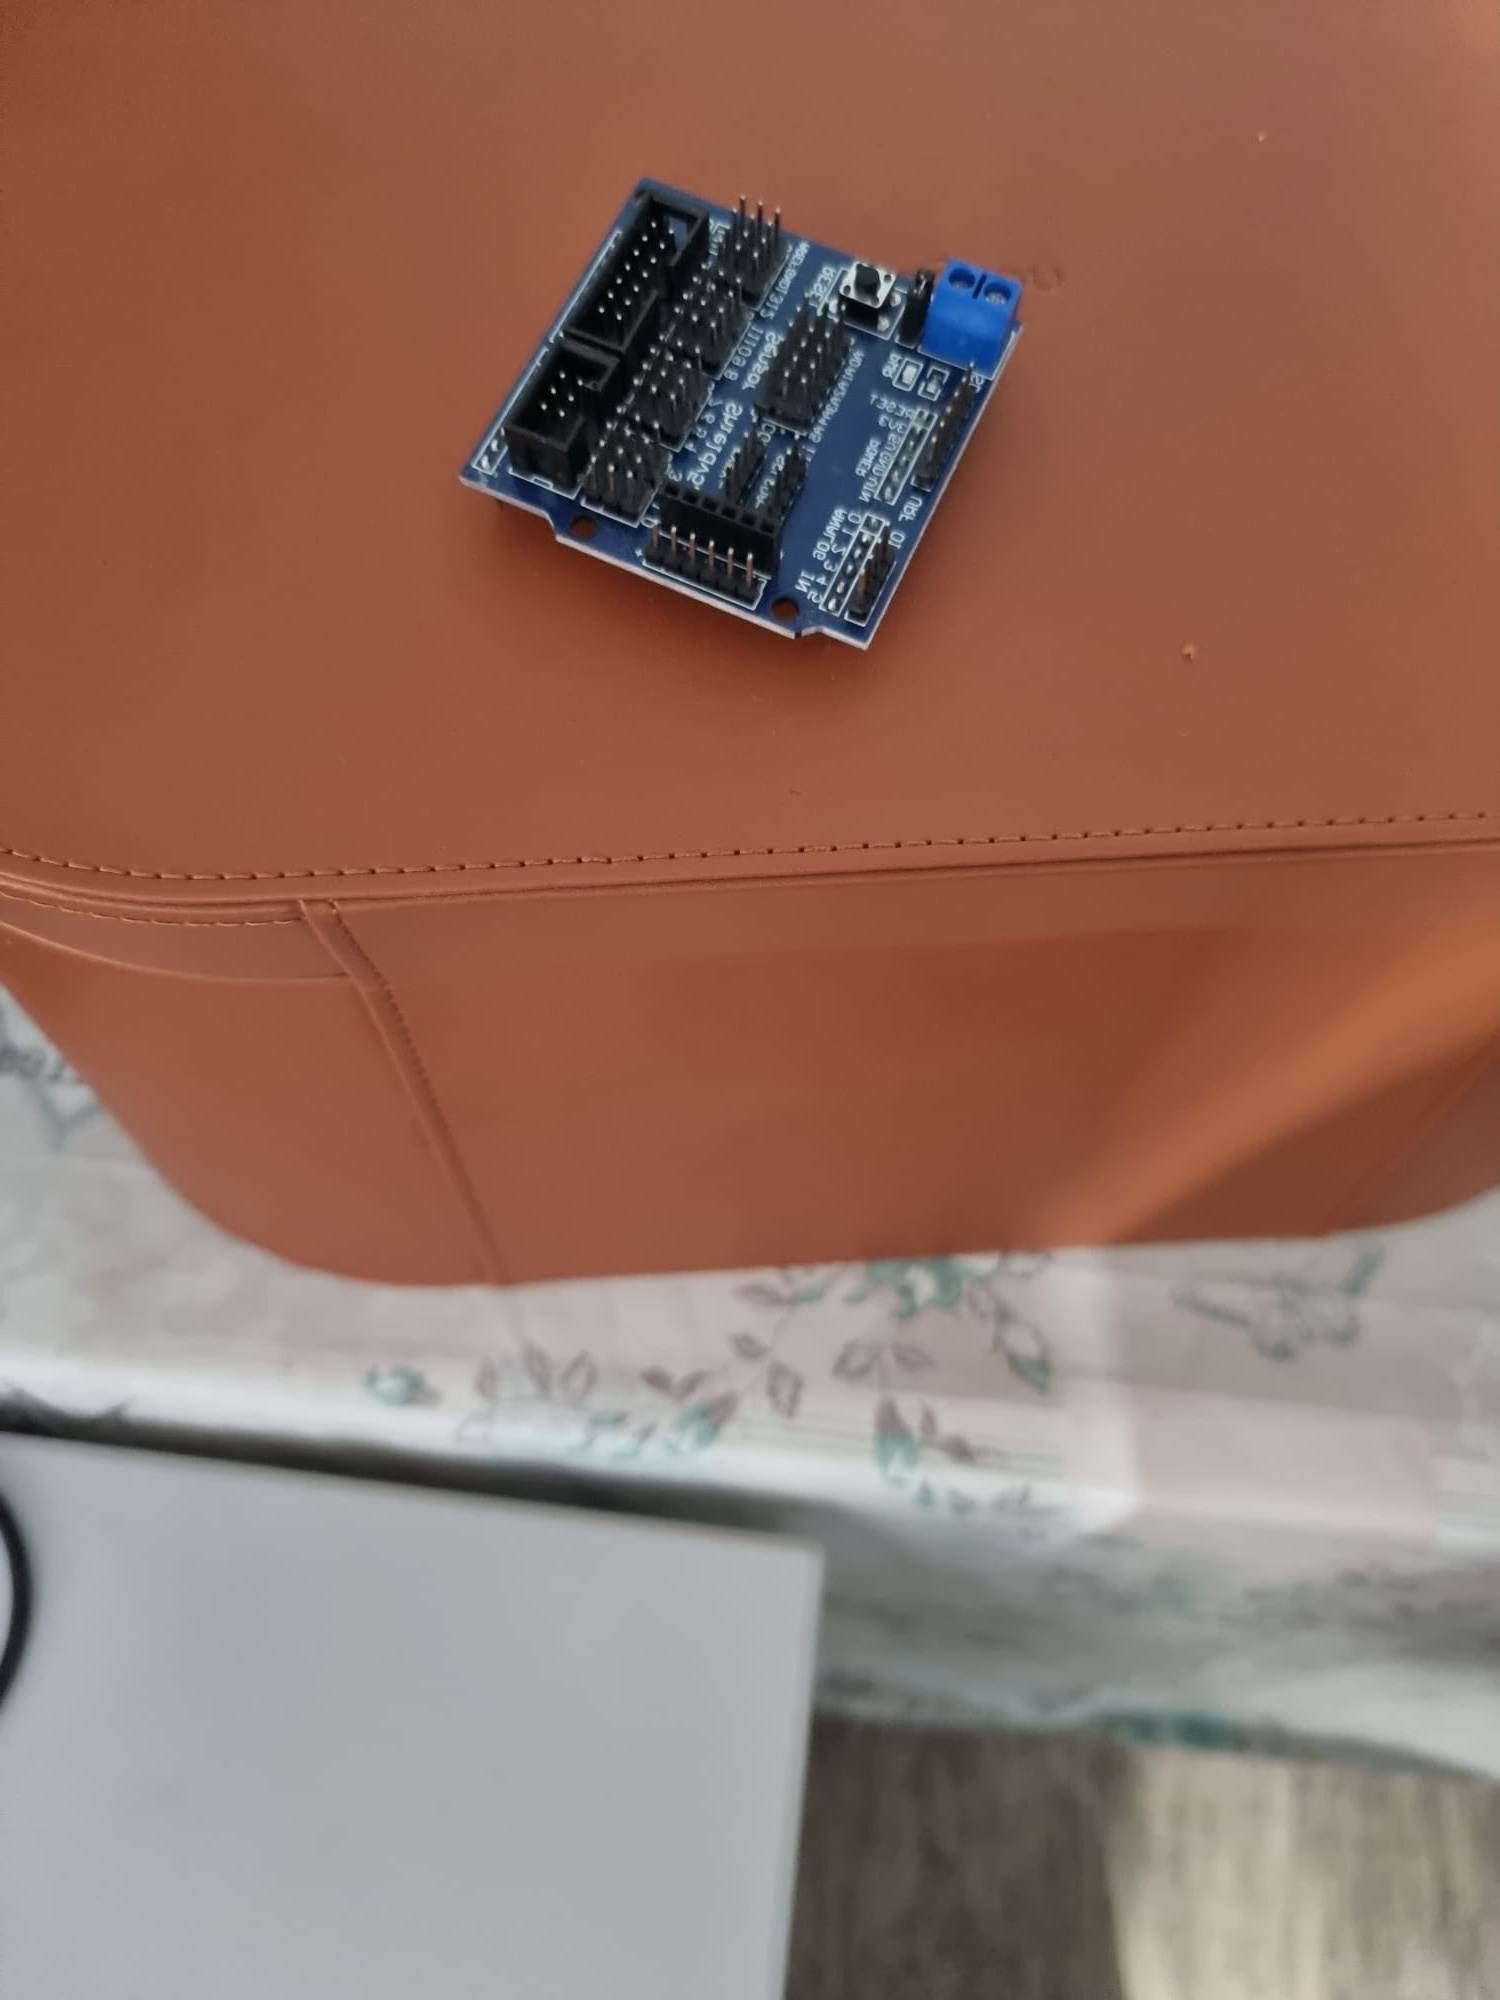5V EXPANSION: (441, 159, 1024, 650)
